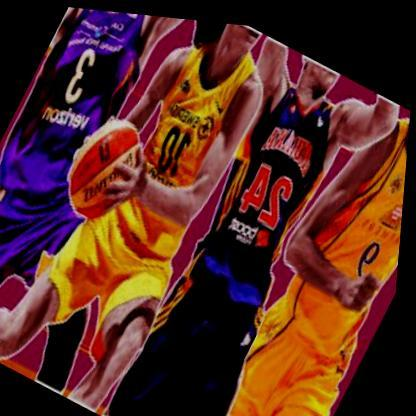basketball: (56, 102, 158, 230)
